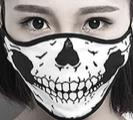with_mask: (2, 1, 133, 120)
